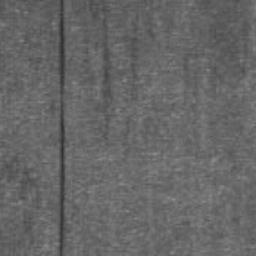Scratches: (59, 0, 66, 256)
